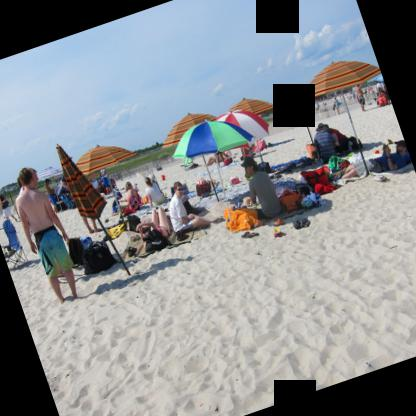backpack: (68, 234, 84, 264), (224, 157, 233, 166)
handbag: (87, 246, 119, 272), (143, 229, 171, 253), (301, 167, 330, 188), (68, 239, 84, 265), (224, 157, 233, 166), (312, 151, 318, 159)
suitcase: (83, 240, 118, 274)
